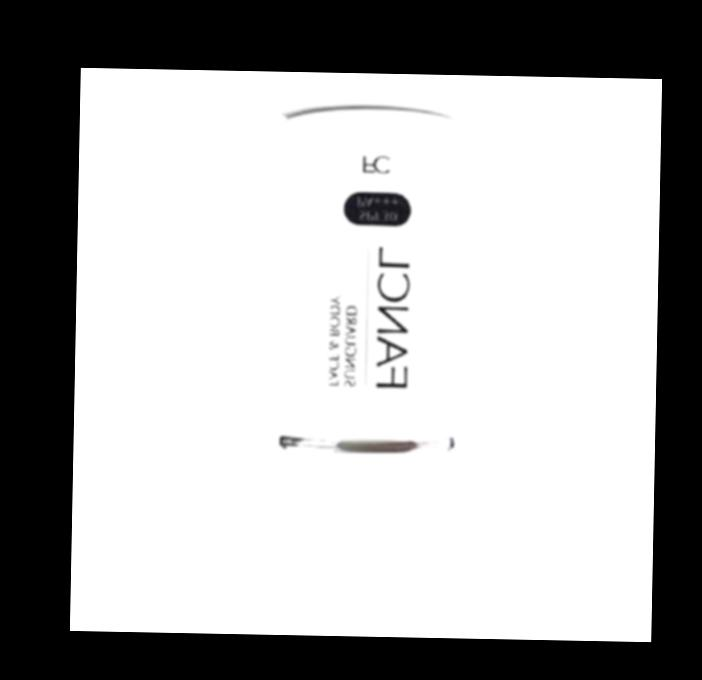cosmetic: (266, 105, 472, 562)
